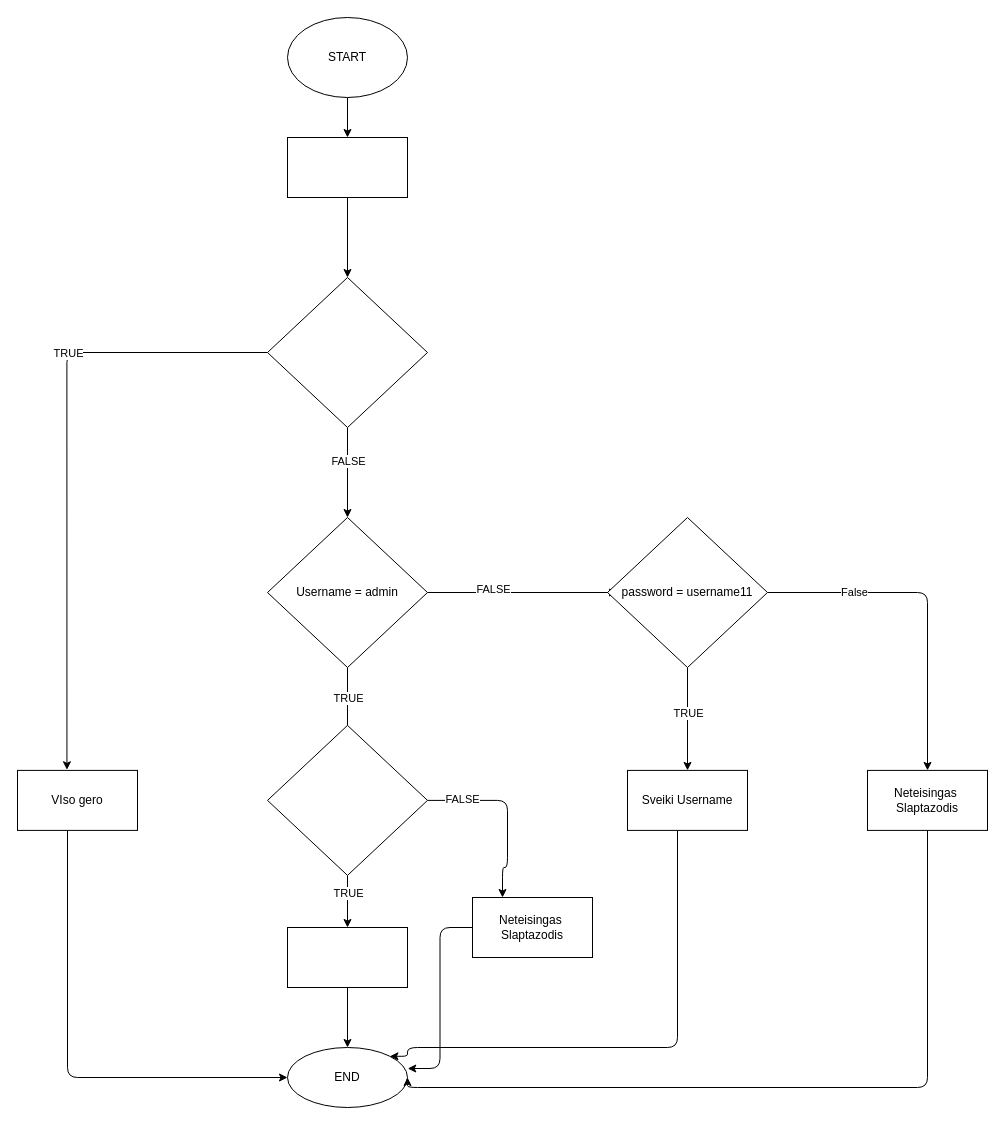
Some shapes in this 1005 by 1125 pixel diagram are drawn without their labels. The shapes that lost their labels are listed below. From the top down, each one's centre as x and y in pixels, then its label:
(x=347, y=167): Username Password
(x=347, y=352): Username = ''
(x=347, y=799): password= master
(x=347, y=957): Sveiki Admin
